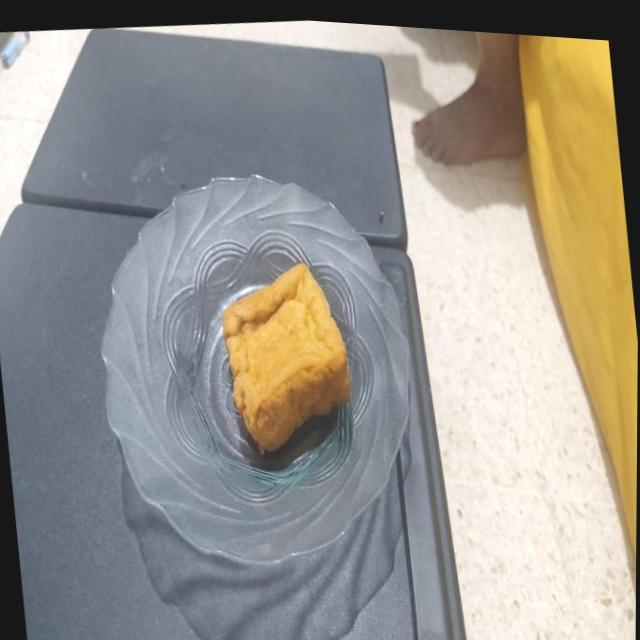tahu_goreng: (222, 262, 349, 453)
